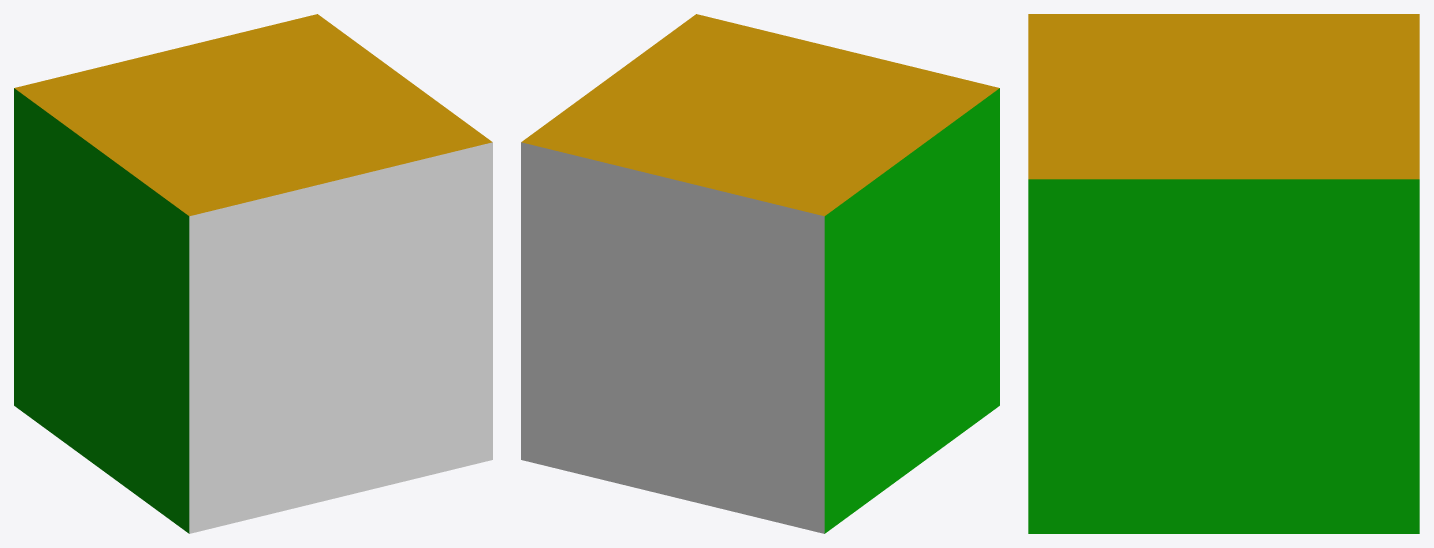
The model's file is monkey_in_box.obj.
3 renders of one model, left to right at view 1: azimuth 30°, elevation 25°; view 2: azimuth 150°, elevation 25°; view 3: azimuth 270°, elevation 25°, orthographic. The views are drawn at different scales.
Parts seen in each view (by area): view 1: Cube, Cube.001, Cube.002; view 2: Cube, Cube.001, Cube.002; view 3: Cube.001, Cube.002.
Boxes of the visible parts, x1,y1,x2,y2 form: Cube: (189, 142, 492, 533); Cube.001: (14, 88, 189, 533); Cube.002: (14, 14, 492, 216); Cube: (521, 142, 824, 533); Cube.001: (824, 88, 999, 533); Cube.002: (521, 14, 999, 216); Cube.001: (1028, 179, 1419, 533); Cube.002: (1028, 14, 1419, 179).
Bounding box in the file's own units: 20 × 20 × 20.
